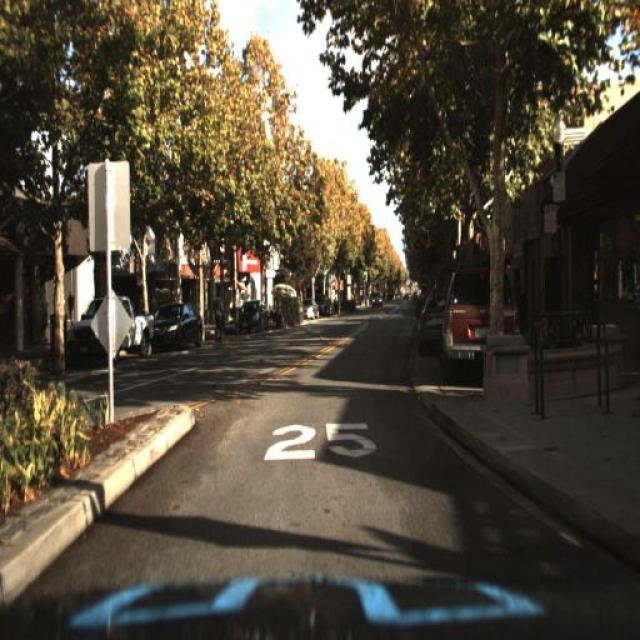car: (439, 264, 520, 388), (61, 293, 158, 361), (150, 304, 206, 354), (416, 280, 448, 360), (231, 300, 270, 340), (298, 292, 323, 317), (367, 286, 385, 316)
trafficLight: (211, 290, 224, 349)
